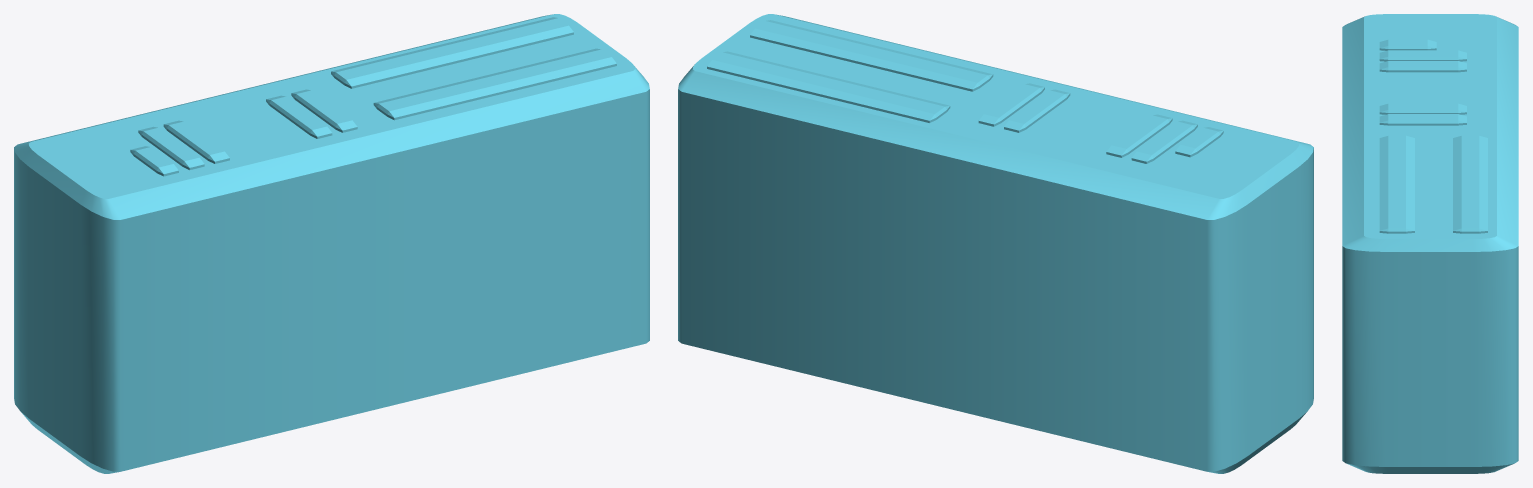
The model's file is small.gltf.
The picture shows the model from 3 angles, left to right: view 1: azimuth 30°, elevation 25°; view 2: azimuth 150°, elevation 25°; view 3: azimuth 270°, elevation 25°; orthographic projection. The views are drawn at different scales.
Parts seen in each view (by area): view 1: 小; view 2: 小; view 3: 小.
Part boxes in pixels (x1=…): 小: x1=14, y1=14, x2=649, y2=473; 小: x1=678, y1=14, x2=1313, y2=473; 小: x1=1342, y1=14, x2=1518, y2=473.
Bounding box in the file's own units: 3.02 × 1.46 × 0.9726.
